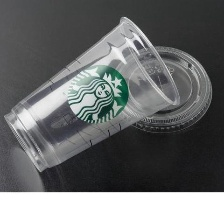glass: (0, 11, 183, 176)
